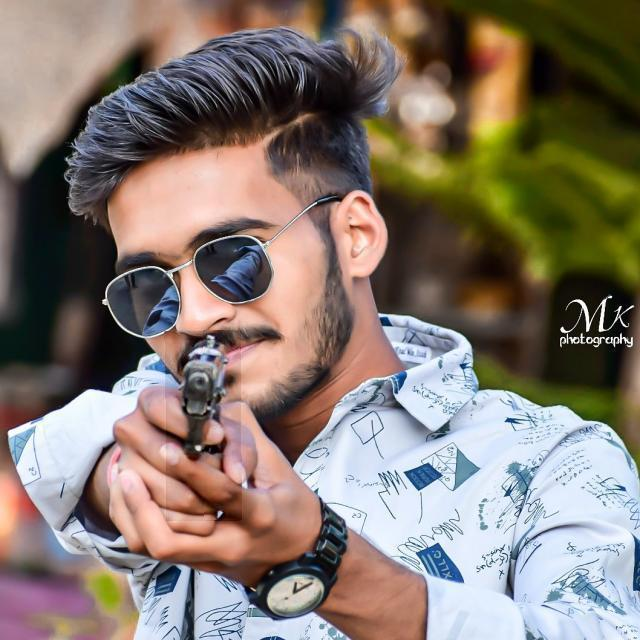Handgun: (166, 331, 242, 522)
